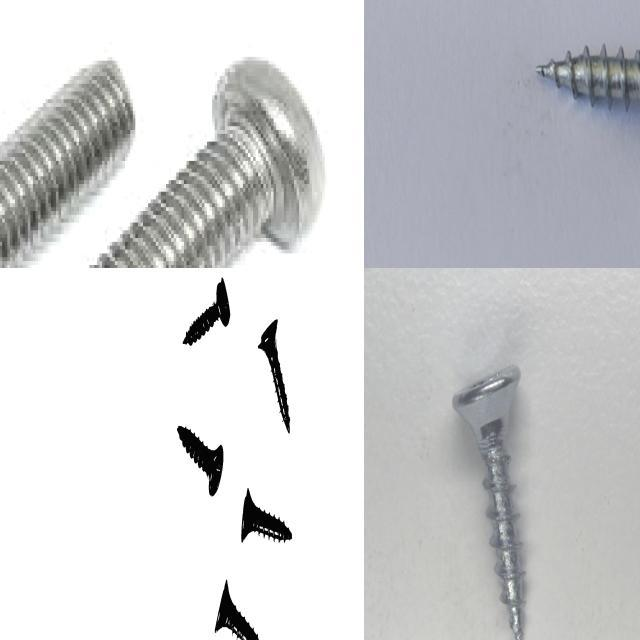Screw: (92, 57, 327, 268), (0, 61, 135, 268), (452, 364, 525, 640), (536, 44, 640, 110), (259, 318, 290, 432), (177, 425, 223, 495), (183, 276, 230, 343), (241, 488, 292, 541), (215, 581, 259, 640)
